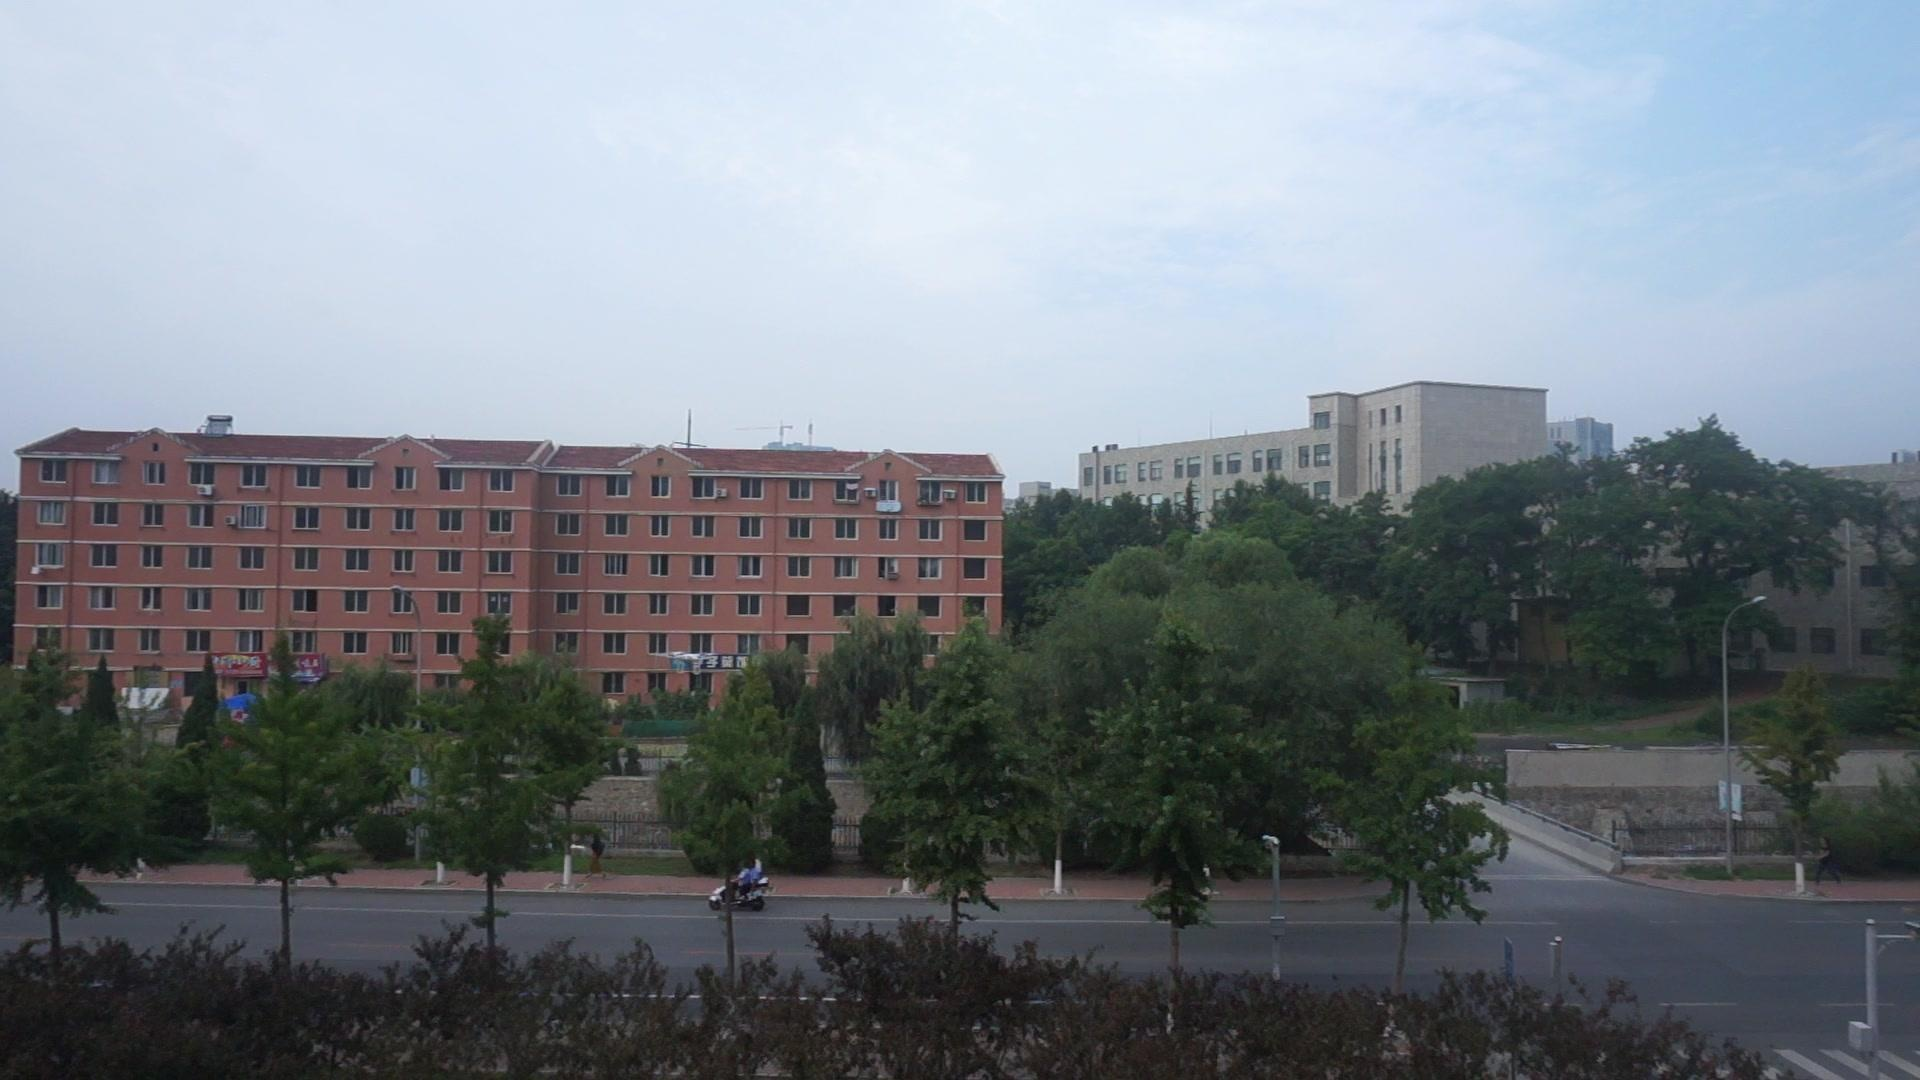UAV: (669, 651, 716, 675)
